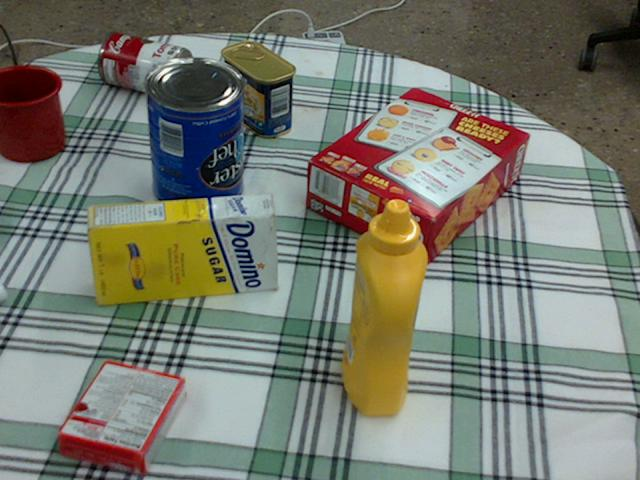cracker_box: (307, 87, 529, 265)
gelatin_box: (57, 360, 184, 474)
large_marker: (0, 283, 6, 300)
master_chef_can: (142, 57, 242, 217)
mug: (0, 64, 66, 159)
mustard_bottle: (342, 199, 427, 413)
potted_meat_can: (220, 41, 295, 136)
sugar_box: (85, 194, 277, 304)
tomato_soup_can: (98, 31, 192, 97)
